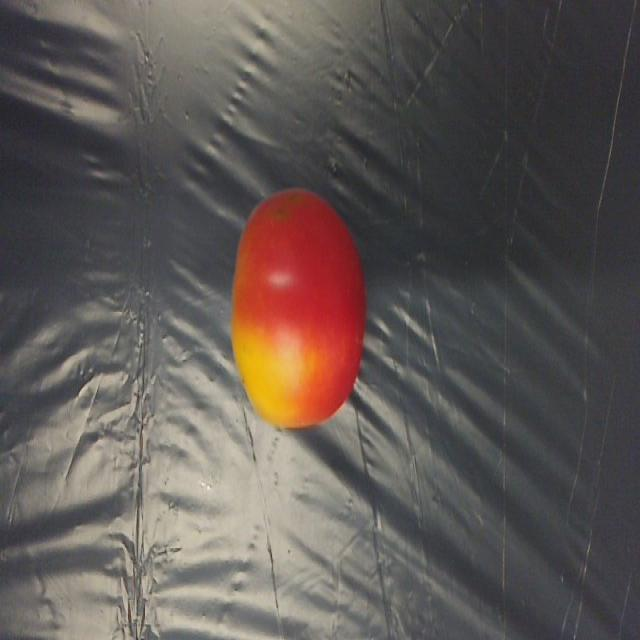sari: (214, 185, 399, 491)
